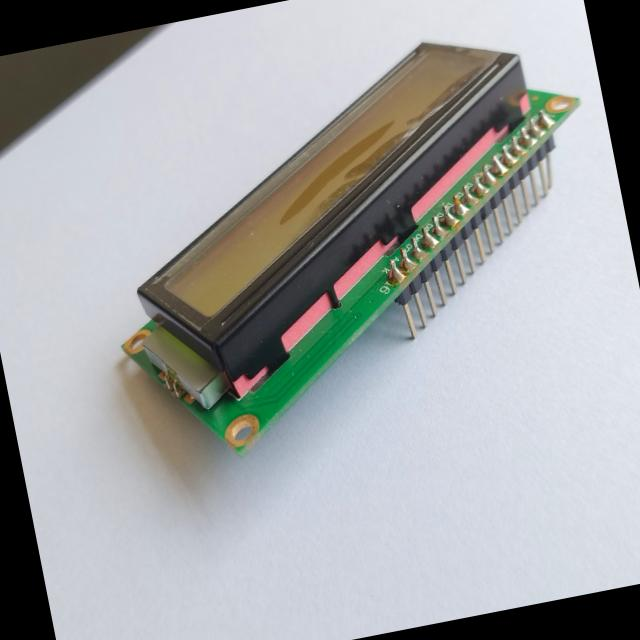lcd: (59, 0, 638, 481)
